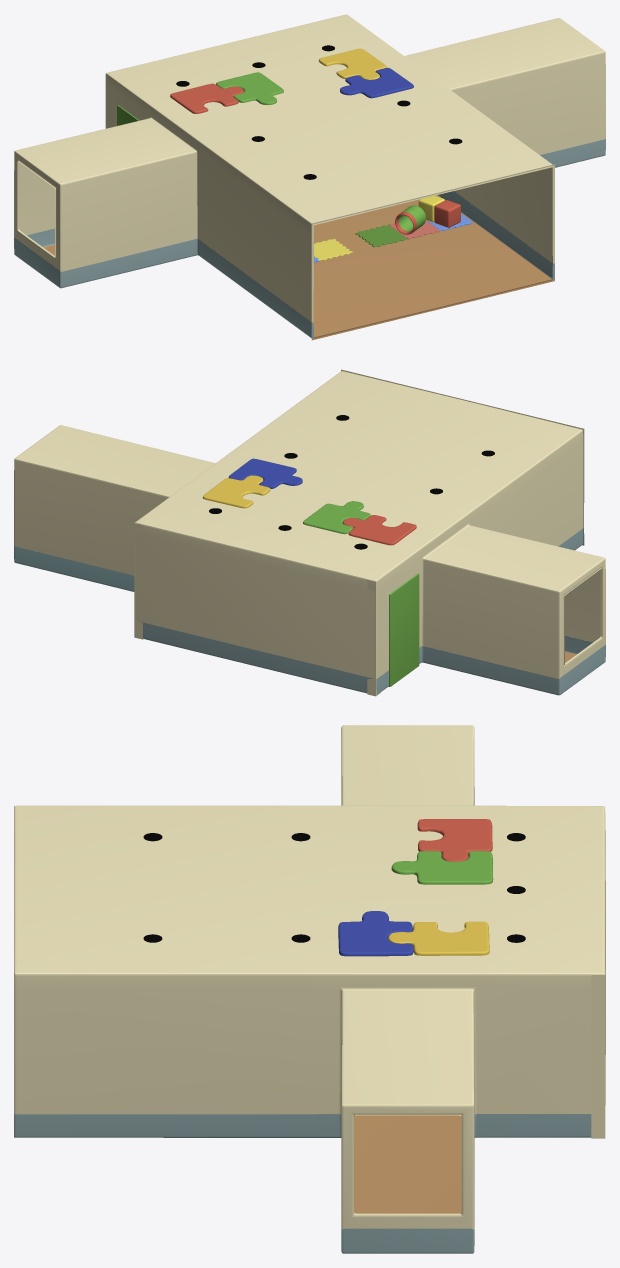
File: expresion_artistica.glb
3 renders of one model, top to bottom at view 1: azimuth 30°, elevation 25°; view 2: azimuth 150°, elevation 25°; view 3: azimuth 270°, elevation 25°, orthographic. The views are drawn at different scales.
Visible parts, largest first — view 1: Box004, Box005, Cylinder001, Gengon007, Gengon008, Box012, Box009, Cylinder023; view 2: Box004, Box005, Cylinder001, Gengon008, Gengon007, Cylinder023; view 3: Box004, Box005, Cylinder001, Gengon007, Gengon008, Cylinder023.
Boxes of the visible parts, box(x1,y1,x2,y2) form: Box004: box(14, 14, 605, 322); Box005: box(14, 139, 605, 340); Cylinder001: box(117, 72, 460, 234); Gengon007: box(340, 67, 413, 98); Gengon008: box(318, 48, 386, 79); Box012: box(355, 225, 407, 247); Box009: box(314, 238, 352, 260); Cylinder023: box(176, 45, 462, 179); Box004: box(14, 369, 605, 696); Box005: box(14, 528, 605, 695); Cylinder001: box(303, 501, 419, 686); Gengon008: box(202, 475, 270, 508); Gengon007: box(228, 458, 302, 488); Cylinder023: box(209, 415, 494, 549); Box004: box(14, 725, 605, 1229); Box005: box(14, 1114, 591, 1253); Cylinder001: box(391, 819, 493, 884); Gengon007: box(338, 911, 413, 956); Gengon008: box(388, 921, 489, 955); Cylinder023: box(143, 833, 525, 942).
Size of the model in its own units: 8.08 by 1.67 by 5.3.
